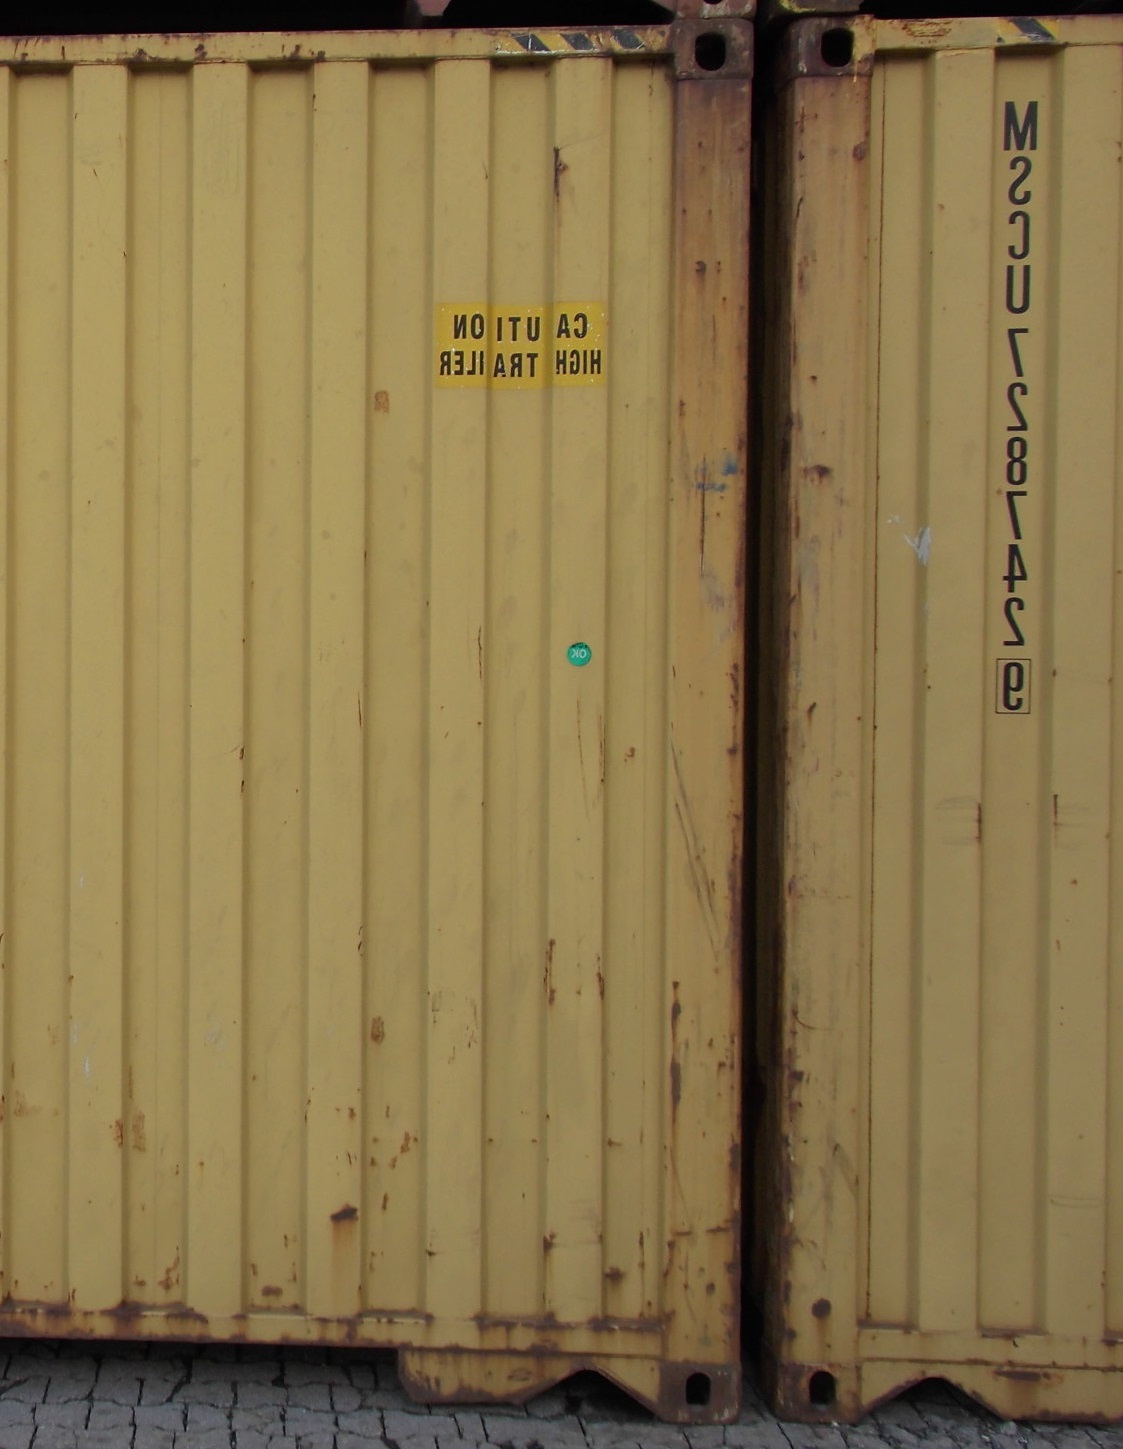container_no_door: (7, 21, 750, 1427), (774, 14, 1123, 1416)
